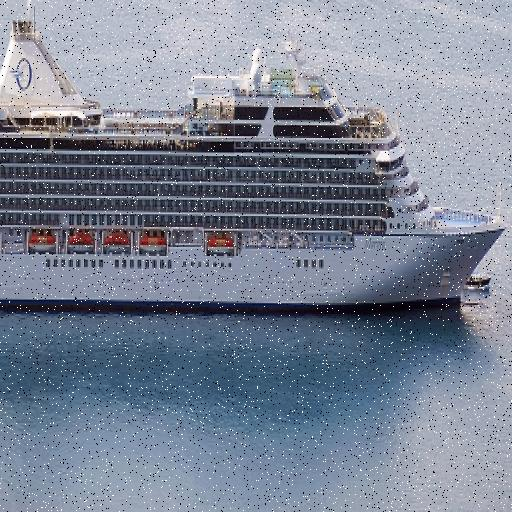cruises: (1, 1, 509, 335)
